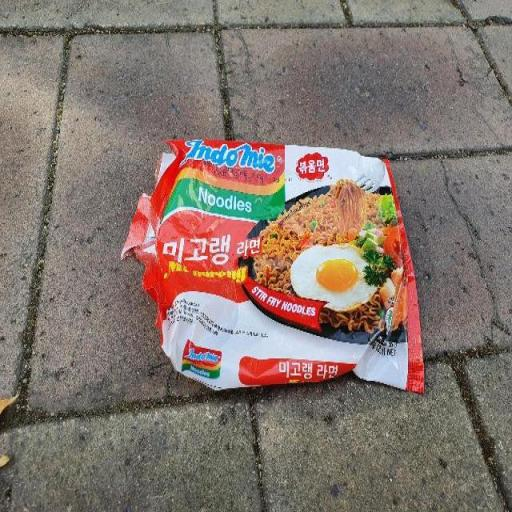plastic-bag: (118, 129, 427, 398)
